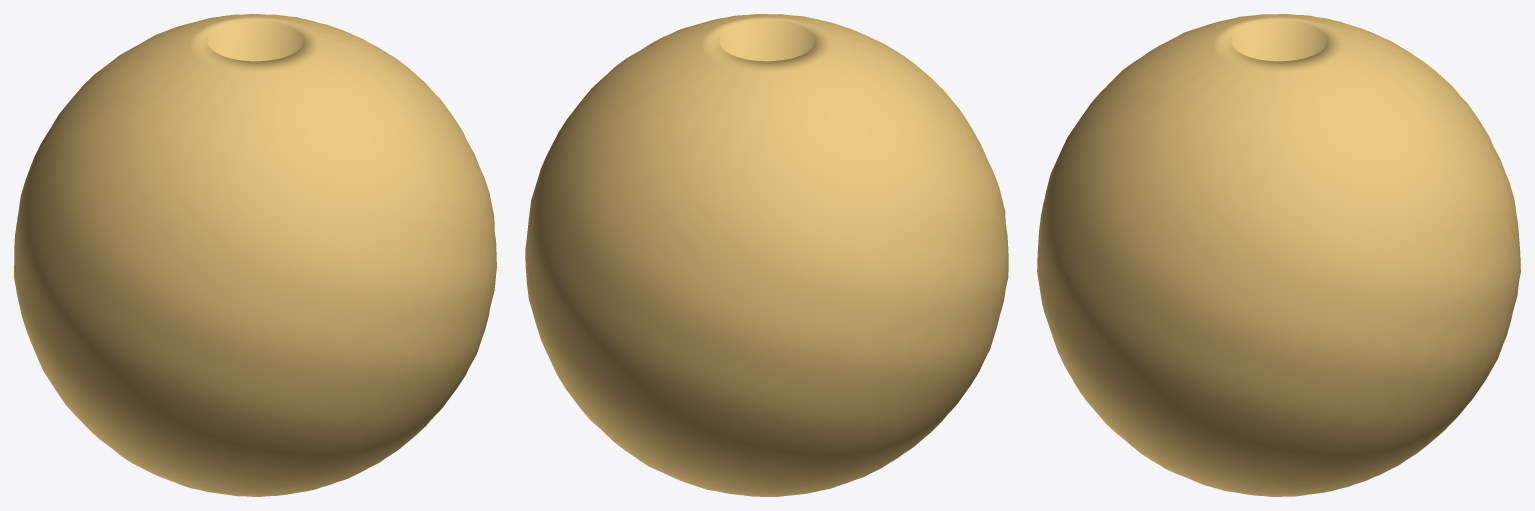
File: spacer-02-gold.glb
3 views of the same model, side by side, from view 1: azimuth 30°, elevation 25°; view 2: azimuth 150°, elevation 25°; view 3: azimuth 270°, elevation 25° (orthographic).
Visible parts, largest first — view 1: Spacer with through bore.002; view 2: Spacer with through bore.002; view 3: Spacer with through bore.002.
Part boxes in pixels (<box>): Spacer with through bore.002: <box>14,14,496,496</box>; Spacer with through bore.002: <box>525,14,1008,496</box>; Spacer with through bore.002: <box>1037,14,1520,496</box>.
Size of the model in its own units: 0.006 by 0.00588 by 0.00601.
